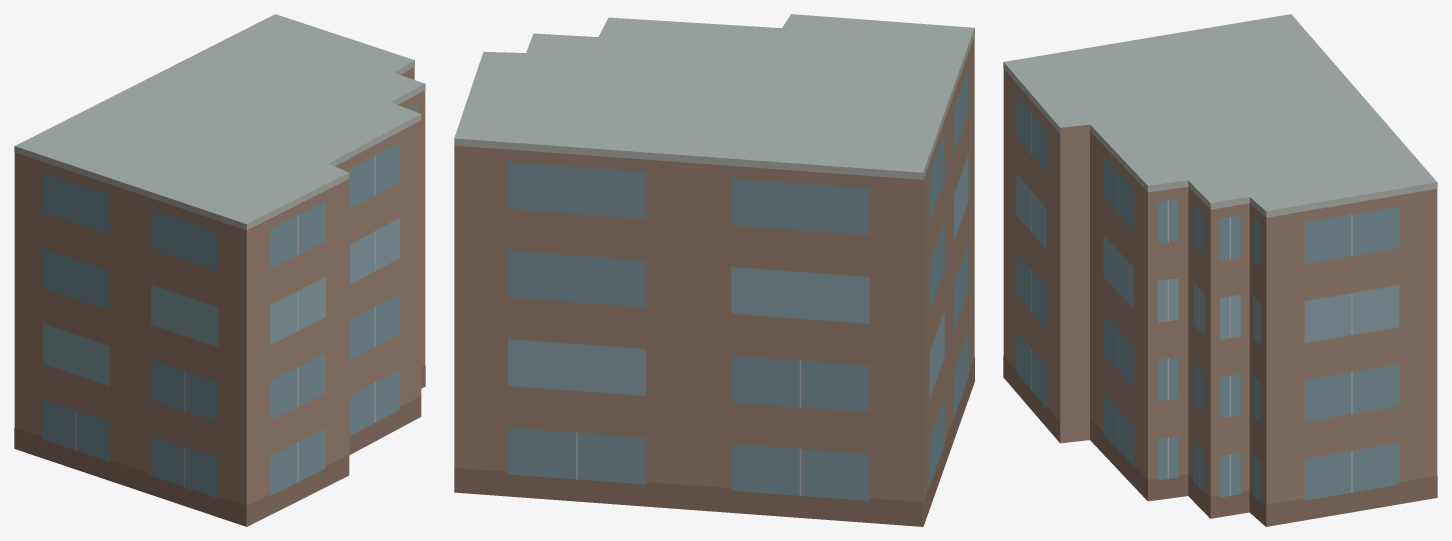
The model's file is survey-upis-32947063.glb.
3 renders of one model, left to right at view 1: azimuth 30°, elevation 25°; view 2: azimuth 150°, elevation 25°; view 3: azimuth 270°, elevation 25°, orthographic. The views are drawn at different scales.
Parts seen in each view (by area): view 1: survey-upis-32947063.tmp; view 2: survey-upis-32947063.tmp; view 3: survey-upis-32947063.tmp.
Part boxes in pixels (box(x1,y1,x2,y2)): survey-upis-32947063.tmp: box(14, 14, 425, 526); survey-upis-32947063.tmp: box(454, 14, 974, 526); survey-upis-32947063.tmp: box(1003, 14, 1437, 526).
Bounding box in the file's own units: 16.18 × 12.05 × 15.03.
